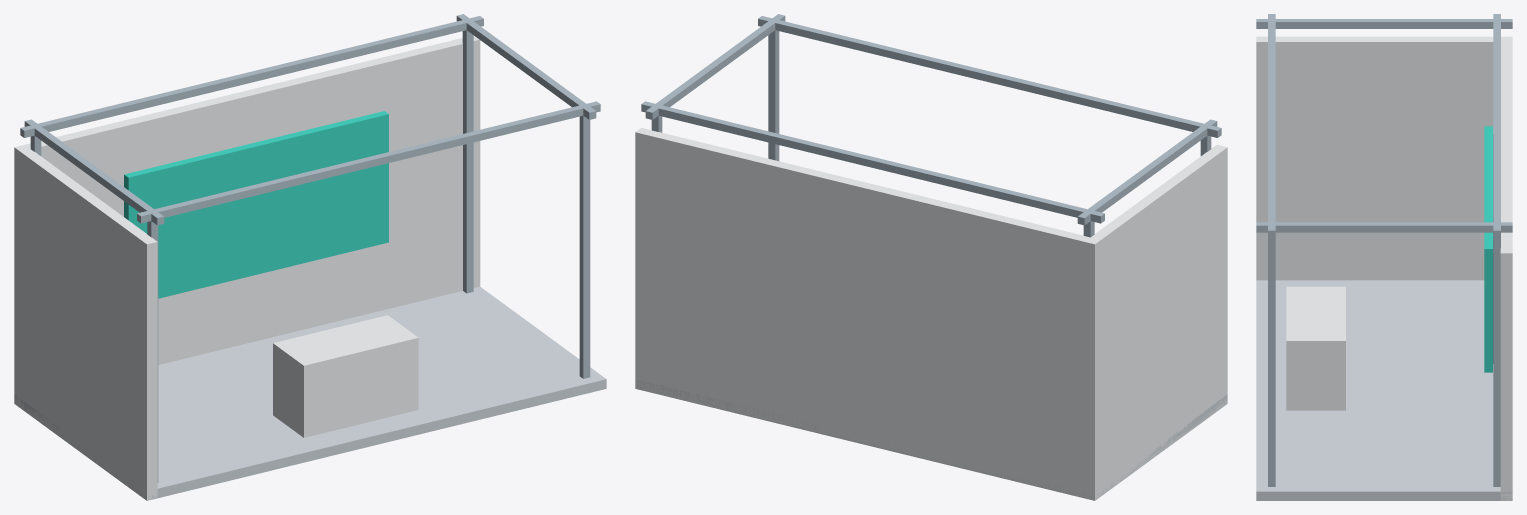
3 views of the same model, side by side, from view 1: azimuth 30°, elevation 25°; view 2: azimuth 150°, elevation 25°; view 3: azimuth 270°, elevation 25° (orthographic). The views are drawn at different scales.
Visible parts, largest first — view 1: Exhibition Booth Concept; view 2: Exhibition Booth Concept; view 3: Exhibition Booth Concept.
Boxes of the visible parts, left/top/right/bottom form: Exhibition Booth Concept: left=14, top=14, right=606, bottom=500; Exhibition Booth Concept: left=635, top=14, right=1227, bottom=500; Exhibition Booth Concept: left=1256, top=14, right=1512, bottom=500.
Size of the model in its own units: 6 by 3.49 by 3.
